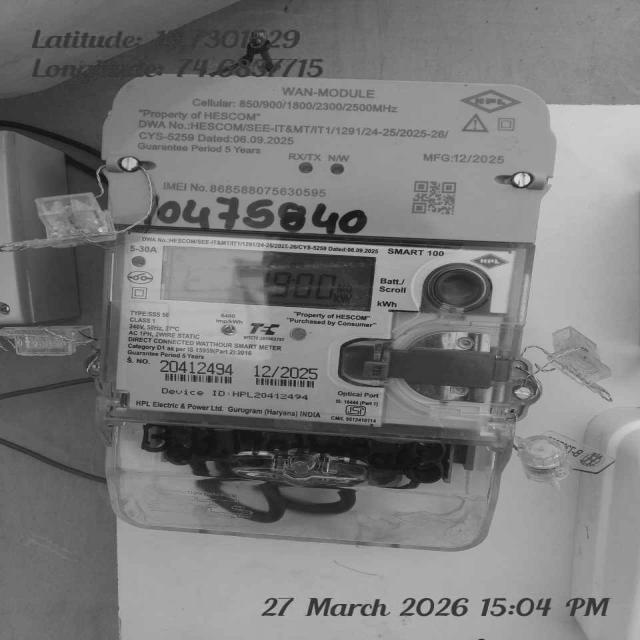meter: (107, 75, 554, 439)
